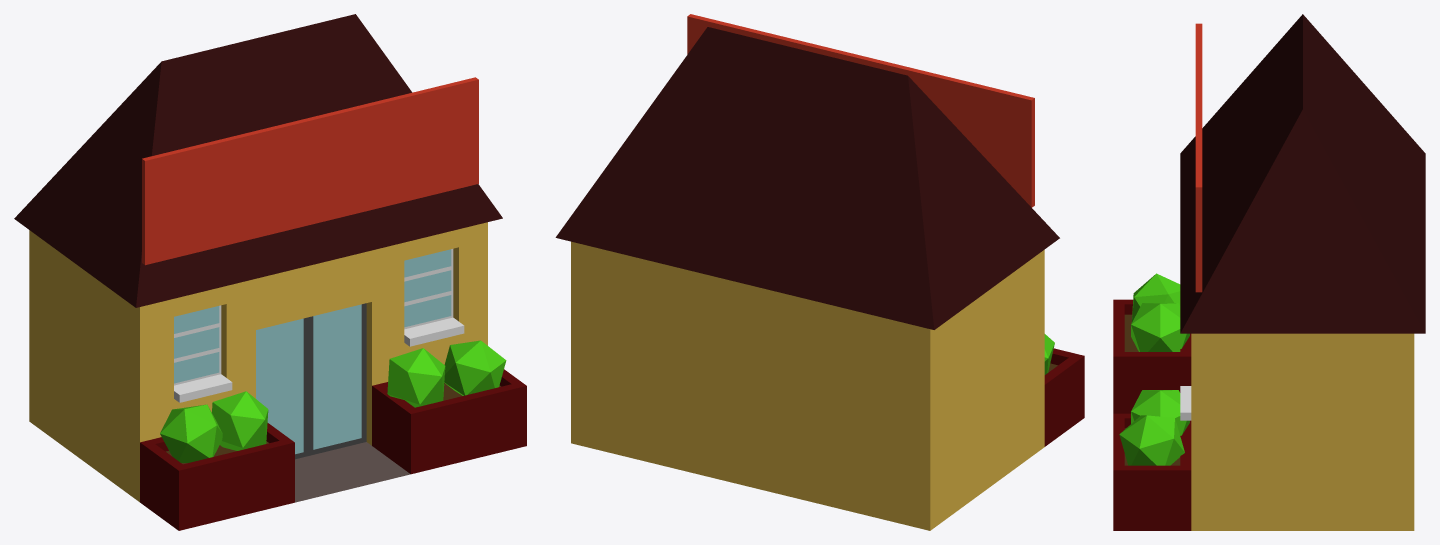
File: employment_office.fbx
3 views of the same model, side by side, from view 1: azimuth 30°, elevation 25°; view 2: azimuth 150°, elevation 25°; view 3: azimuth 270°, elevation 25° (orthographic). The views are drawn at different scales.
Visible parts, largest first — view 1: EmploymentOffice; view 2: EmploymentOffice; view 3: EmploymentOffice.
Boxes of the visible parts, <box> form: EmploymentOffice: <box>14,14,526,530</box>; EmploymentOffice: <box>555,14,1084,530</box>; EmploymentOffice: <box>1113,14,1425,530</box>.
Size of the model in its own units: 383 by 380 by 280.
